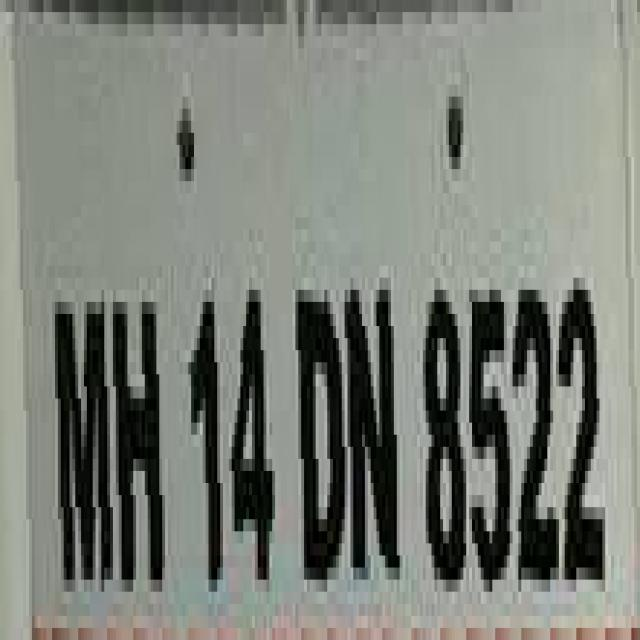license_plate: (0, 12, 608, 640)
